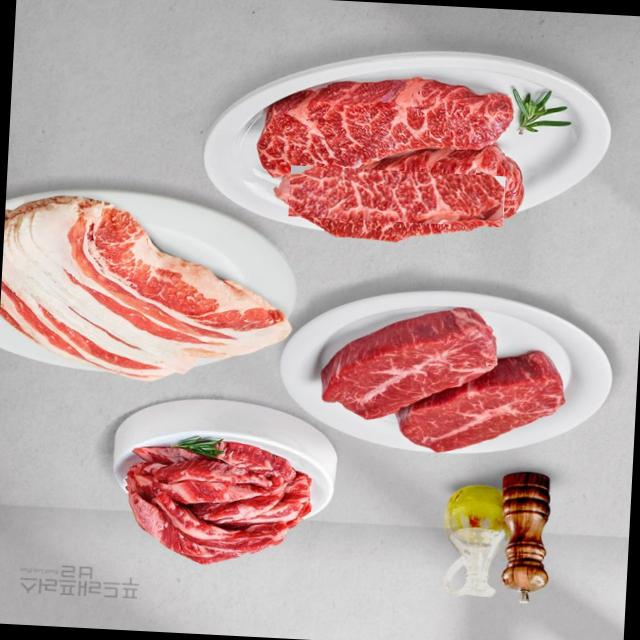beef: (269, 96, 503, 158), (288, 166, 506, 228)
